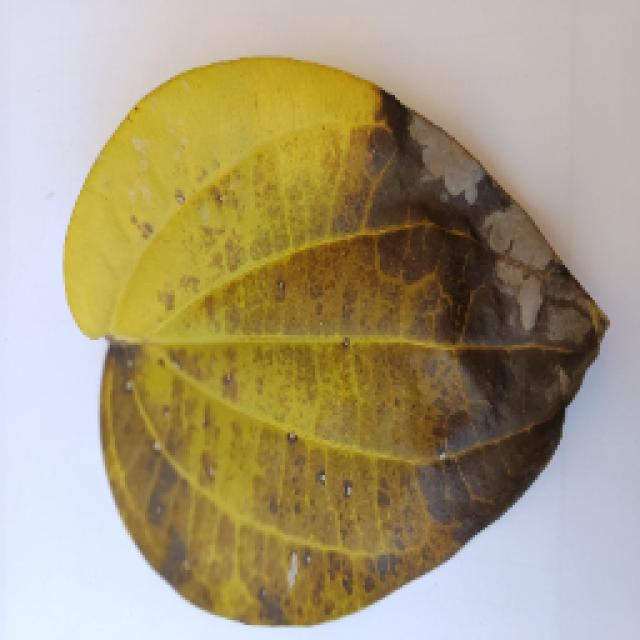slow-decline: (30, 82, 605, 640)
